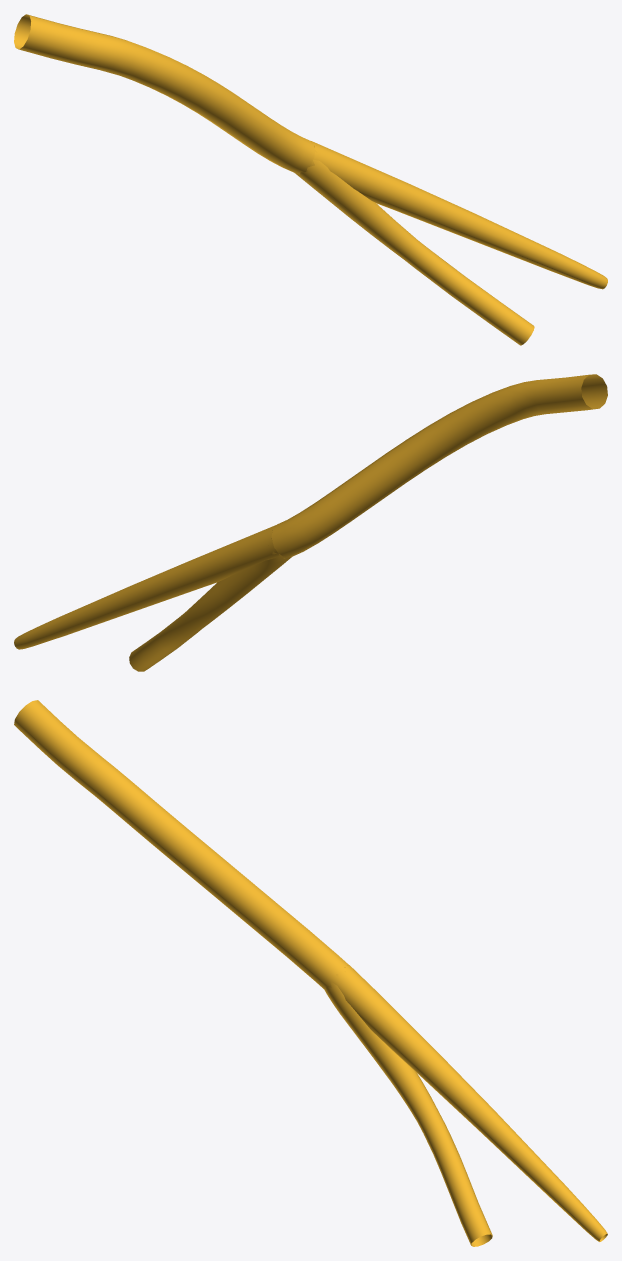
Rendered from nervoso-inferior-trunk-of-brachial-plexus-l.glb.
The picture shows the model from 3 angles, top to bottom: view 1: azimuth 30°, elevation 25°; view 2: azimuth 150°, elevation 25°; view 3: azimuth 330°, elevation 25°; orthographic projection. The views are drawn at different scales.
Visible parts, largest first — view 1: Inferior trunk of brachial plexus.l, Posterior division of inferior trunk of brachial plexus.l, Anterior division of inferior trunk of brachial plexus.l; view 2: Inferior trunk of brachial plexus.l, Posterior division of inferior trunk of brachial plexus.l, Anterior division of inferior trunk of brachial plexus.l; view 3: Inferior trunk of brachial plexus.l, Posterior division of inferior trunk of brachial plexus.l, Anterior division of inferior trunk of brachial plexus.l.
Part boxes in pixels (bbox=[...]): Inferior trunk of brachial plexus.l: bbox=[14, 14, 314, 174]; Posterior division of inferior trunk of brachial plexus.l: bbox=[306, 141, 607, 289]; Anterior division of inferior trunk of brachial plexus.l: bbox=[294, 145, 534, 345]; Inferior trunk of brachial plexus.l: bbox=[271, 374, 607, 557]; Posterior division of inferior trunk of brachial plexus.l: bbox=[14, 525, 285, 649]; Anterior division of inferior trunk of brachial plexus.l: bbox=[129, 530, 291, 671]; Inferior trunk of brachial plexus.l: bbox=[14, 700, 348, 990]; Posterior division of inferior trunk of brachial plexus.l: bbox=[326, 965, 607, 1241]; Anterior division of inferior trunk of brachial plexus.l: bbox=[324, 971, 492, 1246].
Bounding box in the file's own units: 0.0562 × 0.0389 × 0.00861.
